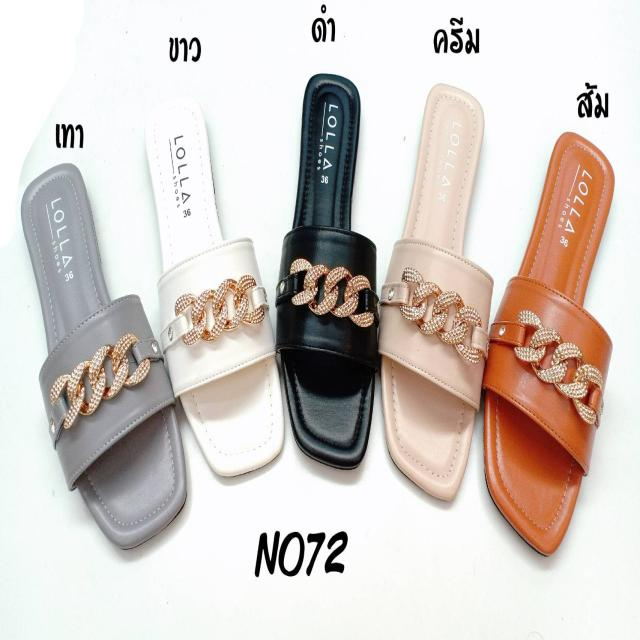black: (284, 74, 380, 473)
cream: (379, 76, 486, 498)
grey: (28, 160, 186, 547)
orange: (485, 130, 618, 555)
white: (149, 100, 286, 473)
